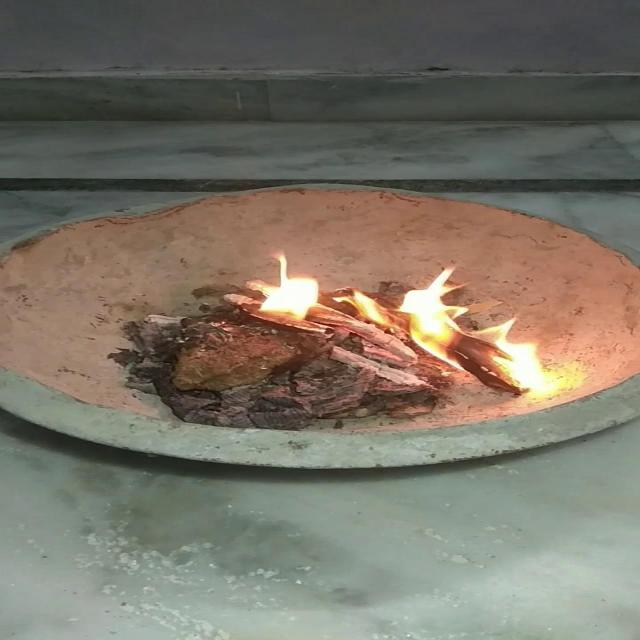fire: (243, 252, 534, 387)
